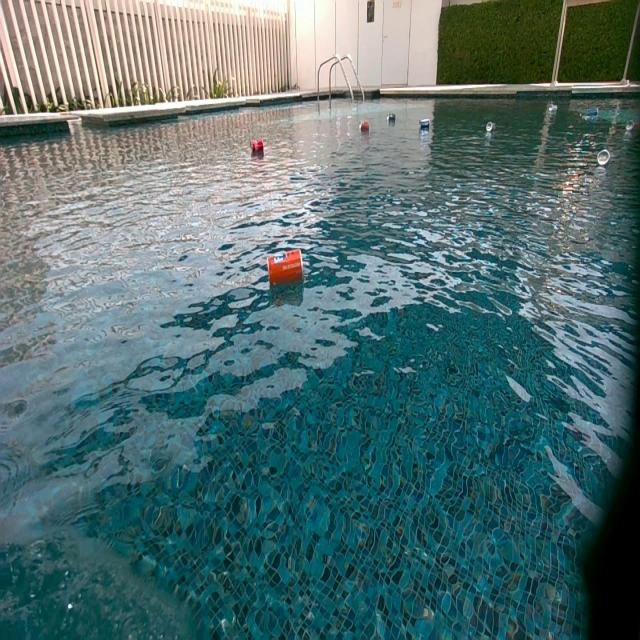Cans: (269, 251, 303, 290), (596, 149, 611, 167), (250, 139, 264, 154), (419, 122, 431, 136), (419, 118, 431, 130), (626, 119, 636, 133), (586, 108, 599, 118), (359, 119, 369, 131), (548, 103, 558, 113), (387, 112, 397, 122), (486, 120, 495, 131)
